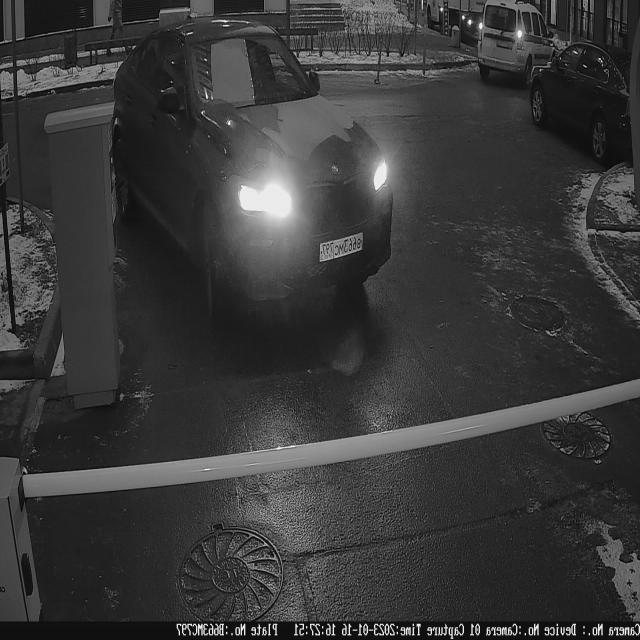car-plate-numbers: (319, 229, 365, 267)
